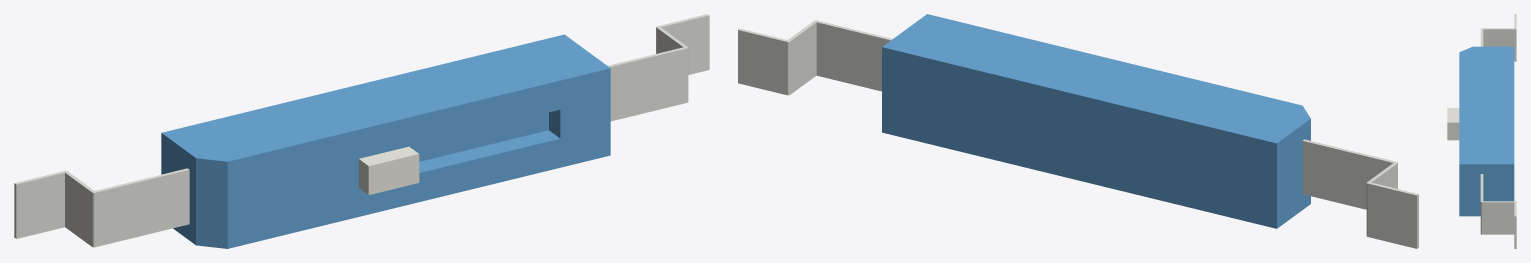
Rendered from SW_SPST_REED_CT10-XXXX-G4.glb.
3 views of the same model, side by side, from view 1: azimuth 30°, elevation 25°; view 2: azimuth 150°, elevation 25°; view 3: azimuth 270°, elevation 25° (orthographic). The views are drawn at different scales.
Parts seen in each view (by area): view 1: Shape_IndexedFaceSet.004, Shape_IndexedFaceSet.006, Shape_IndexedFaceSet.035, Shape_IndexedFaceSet.040, Shape_IndexedFaceSet.002, Shape_IndexedFaceSet.022, Shape_IndexedFaceSet.011, Shape_IndexedFaceSet.030, Shape_IndexedFaceSet.001, Shape_IndexedFaceSet.023, Shape_IndexedFaceSet.016, Shape_IndexedFaceSet.044 (+4 smaller); view 2: Shape_IndexedFaceSet.003, Shape_IndexedFaceSet.006, Shape_IndexedFaceSet.034, Shape_IndexedFaceSet.026, Shape_IndexedFaceSet.018, Shape_IndexedFaceSet.001, Shape_IndexedFaceSet.029, Shape_IndexedFaceSet.025; view 3: Shape_IndexedFaceSet.006, Shape_IndexedFaceSet.005, Shape_IndexedFaceSet.031, Shape_IndexedFaceSet.021, Shape_IndexedFaceSet.025, Shape_IndexedFaceSet.013, Shape_IndexedFaceSet.014, Shape_IndexedFaceSet.050, Shape_IndexedFaceSet.028, Shape_IndexedFaceSet.047, Shape_IndexedFaceSet.019, Shape_IndexedFaceSet.032.
Boxes of the visible parts, x1=… form: Shape_IndexedFaceSet.004: x1=227, y1=68, x2=610, y2=248; Shape_IndexedFaceSet.006: x1=161, y1=34, x2=610, y2=161; Shape_IndexedFaceSet.035: x1=95, y1=48, x2=687, y2=247; Shape_IndexedFaceSet.040: x1=231, y1=73, x2=605, y2=247; Shape_IndexedFaceSet.002: x1=196, y1=158, x2=227, y2=248; Shape_IndexedFaceSet.022: x1=16, y1=173, x2=64, y2=238; Shape_IndexedFaceSet.011: x1=409, y1=112, x2=548, y2=161; Shape_IndexedFaceSet.030: x1=661, y1=15, x2=709, y2=74; Shape_IndexedFaceSet.001: x1=161, y1=133, x2=195, y2=244; Shape_IndexedFaceSet.023: x1=65, y1=173, x2=92, y2=246; Shape_IndexedFaceSet.016: x1=368, y1=154, x2=419, y2=194; Shape_IndexedFaceSet.044: x1=419, y1=132, x2=559, y2=170; Shape_IndexedFaceSet.003: x1=882, y1=47, x2=1276, y2=228; Shape_IndexedFaceSet.006: x1=882, y1=14, x2=1310, y2=143; Shape_IndexedFaceSet.034: x1=816, y1=22, x2=1392, y2=209; Shape_IndexedFaceSet.026: x1=738, y1=30, x2=787, y2=94; Shape_IndexedFaceSet.018: x1=1367, y1=183, x2=1416, y2=248; Shape_IndexedFaceSet.001: x1=1277, y1=119, x2=1310, y2=228; Shape_IndexedFaceSet.029: x1=790, y1=22, x2=816, y2=94; Shape_IndexedFaceSet.025: x1=738, y1=20, x2=1418, y2=195; Shape_IndexedFaceSet.006: x1=1459, y1=46, x2=1514, y2=164; Shape_IndexedFaceSet.005: x1=1459, y1=164, x2=1514, y2=216; Shape_IndexedFaceSet.031: x1=1482, y1=202, x2=1514, y2=234; Shape_IndexedFaceSet.021: x1=1483, y1=29, x2=1515, y2=61; Shape_IndexedFaceSet.025: x1=1480, y1=14, x2=1516, y2=216; Shape_IndexedFaceSet.013: x1=1447, y1=122, x2=1459, y2=140; Shape_IndexedFaceSet.014: x1=1447, y1=108, x2=1459, y2=122; Shape_IndexedFaceSet.050: x1=1447, y1=123, x2=1459, y2=140; Shape_IndexedFaceSet.028: x1=1514, y1=216, x2=1516, y2=248; Shape_IndexedFaceSet.047: x1=1447, y1=108, x2=1459, y2=122; Shape_IndexedFaceSet.019: x1=1515, y1=29, x2=1516, y2=61; Shape_IndexedFaceSet.032: x1=1480, y1=202, x2=1481, y2=234.
Size of the model in its own units: 7.85 by 0.944 by 1.14.
